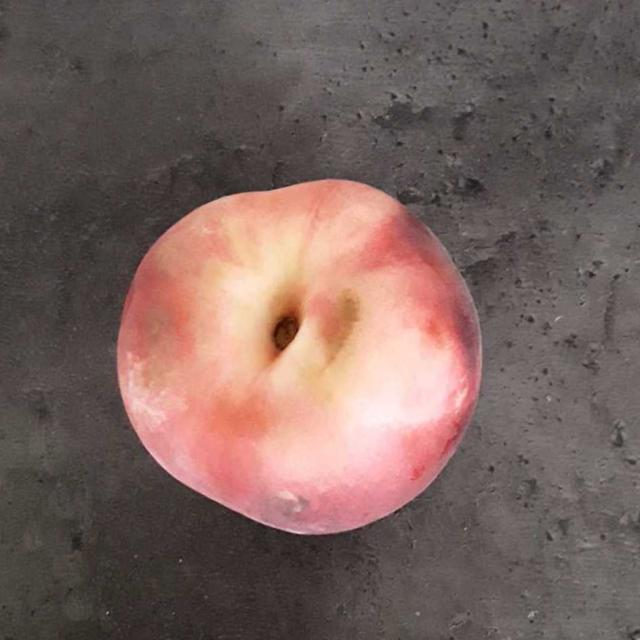peach: (119, 165, 494, 544)
